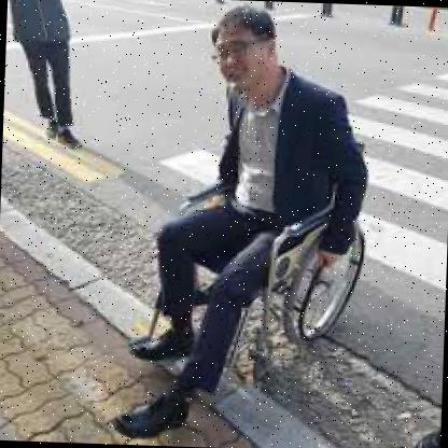wheel: (120, 3, 374, 443)
